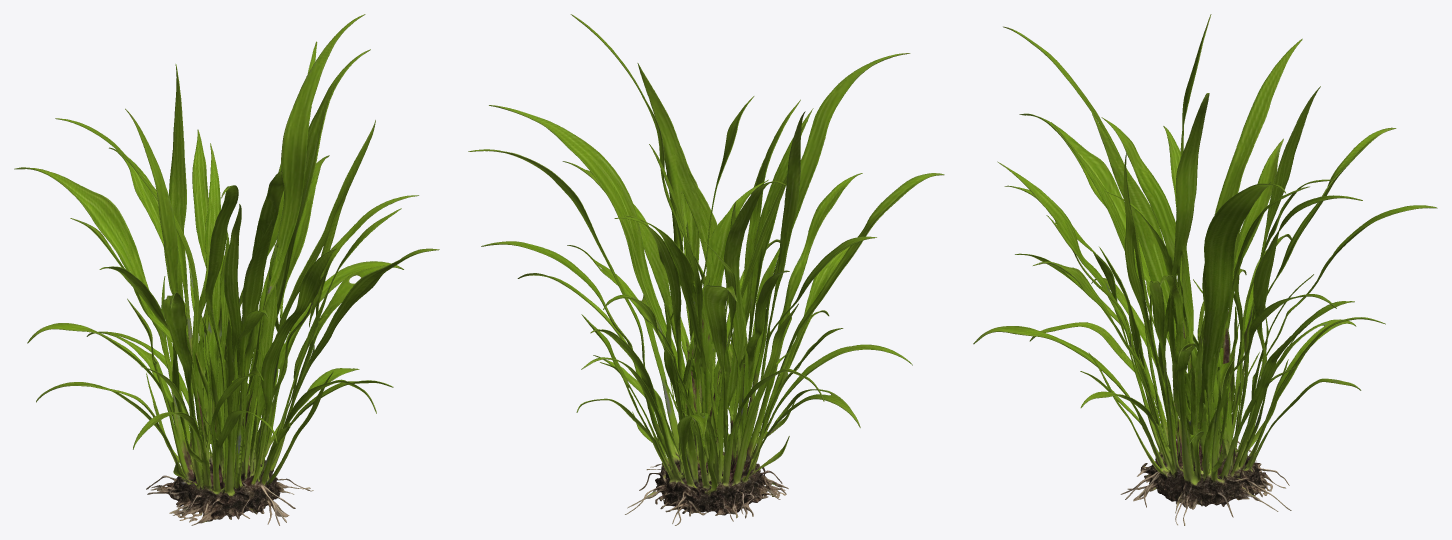
File: Meshy_AI_Vallisneria_1101183850_texture.glb
3 renders of one model, left to right at view 1: azimuth 30°, elevation 25°; view 2: azimuth 150°, elevation 25°; view 3: azimuth 270°, elevation 25°, orthographic. The views are drawn at different scales.
Size of the model in its own units: 1.57 by 1.9 by 1.72.
Materials: 1 (1 with a texture image).
